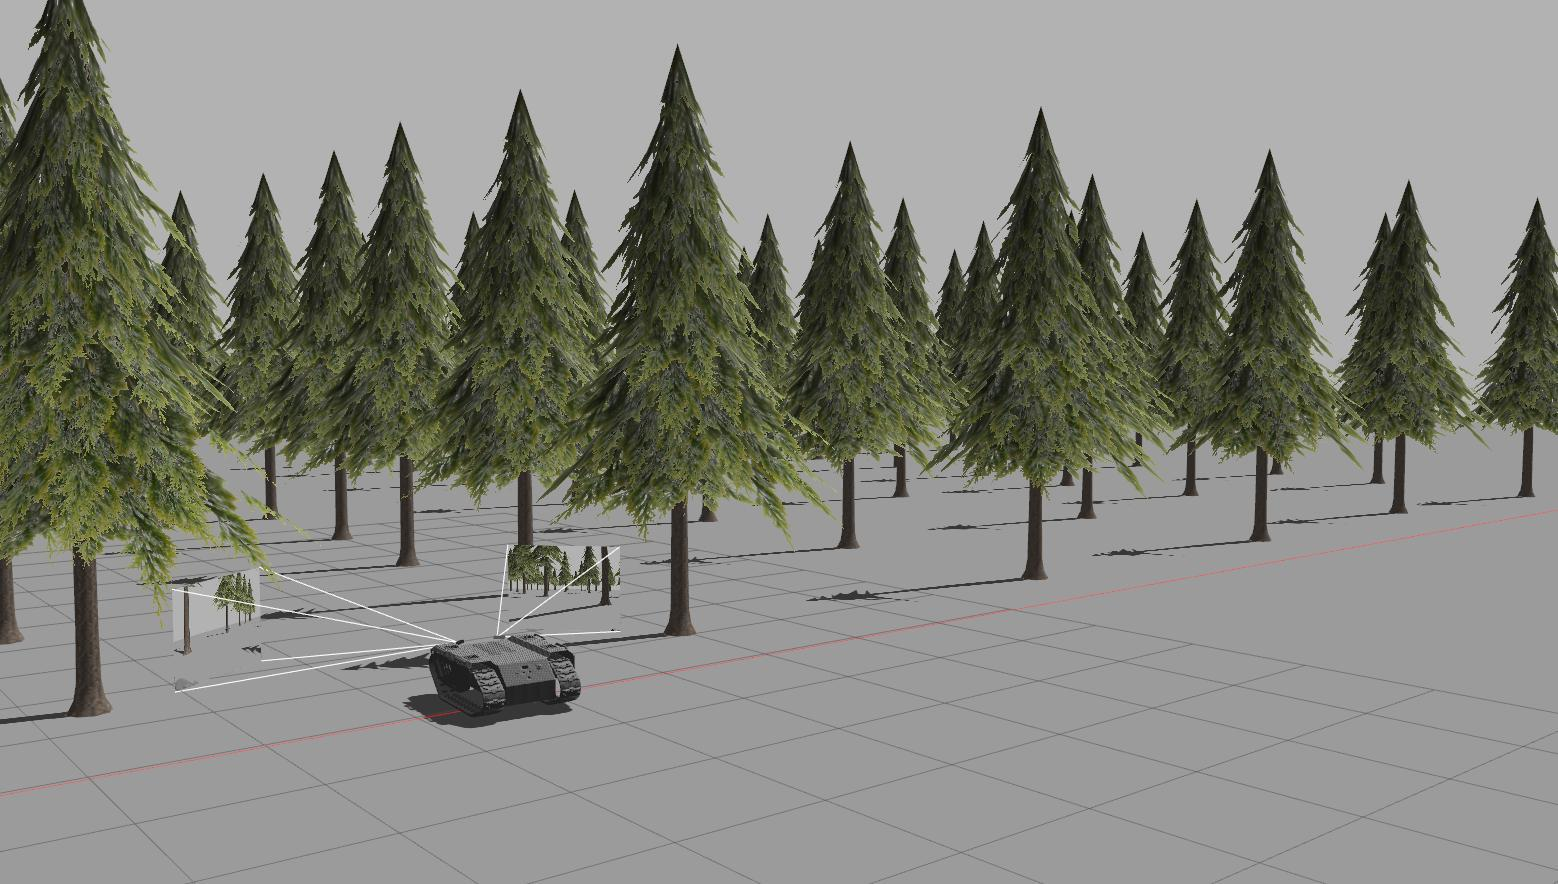tree_gazebo: (0, 0, 262, 715), (563, 48, 822, 636), (937, 112, 1159, 577), (426, 94, 594, 544), (1198, 152, 1351, 540), (332, 125, 450, 564), (789, 146, 904, 546), (1339, 183, 1472, 513), (280, 152, 362, 537), (219, 177, 295, 517), (1476, 201, 1558, 499), (883, 201, 952, 494), (1157, 201, 1223, 494), (162, 192, 223, 423), (749, 216, 794, 396)
